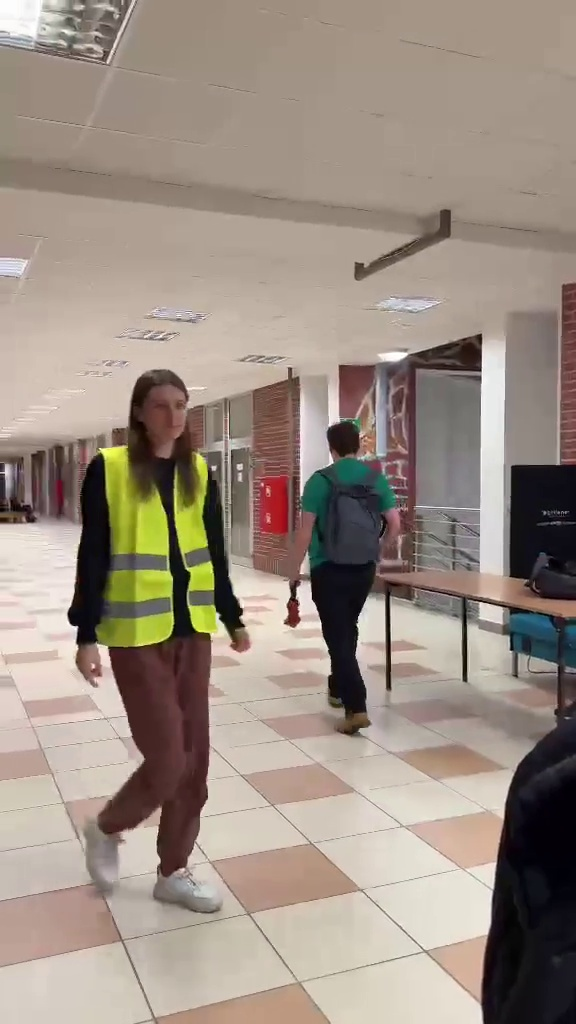no vest: (297, 421, 402, 730)
vest: (77, 370, 257, 921)
